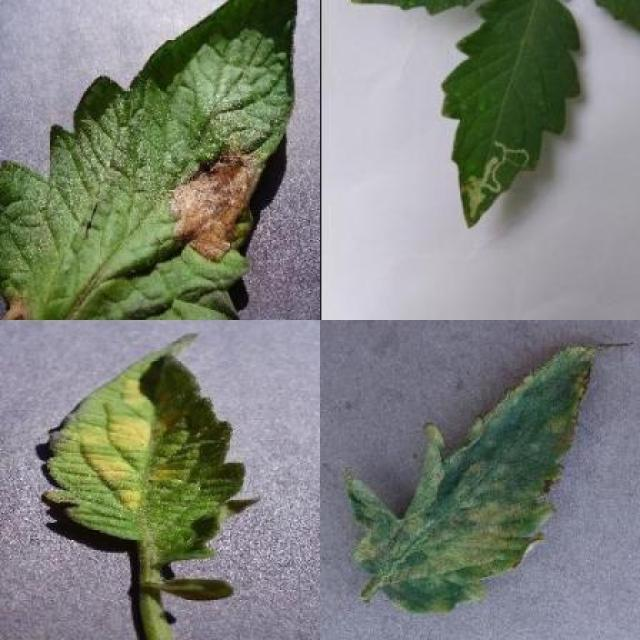Late Blight: (0, 0, 299, 320)
Leaf Miner: (438, 2, 582, 232)
Leaf Mold: (348, 342, 595, 614), (42, 331, 261, 566)
